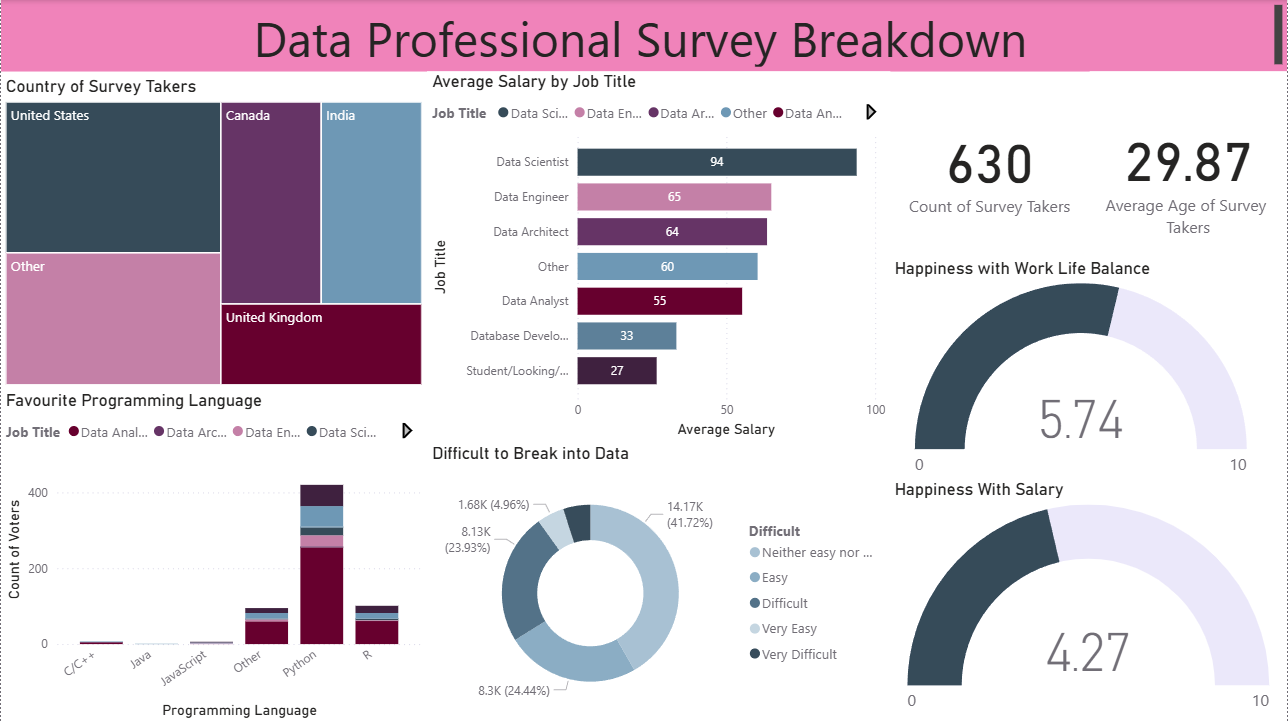

The page's visual inventory and layout, read from the dashboard file:
{"tool":"powerbi","page":{"name":"Page 1","canvas":[1280,720],"ordinal":0},"visuals":[{"type":"textbox","box":[0,0,1280.3,71.4],"z":0},{"type":"card","fields":{"Values":["Count(Data Professional Survey.Unique ID)"]},"box":[884.8,74.3,199.3,184.4],"z":1000},{"type":"card","fields":{"Values":["Avg(Data Professional Survey.Q10 - Current Age)"]},"box":[1084,71.4,196.3,188.8],"z":2000},{"type":"barChart","title":"Average Salary by Job Title","fields":{"Category":["Data Professional Survey.Q1 - Which Title Best Fits your Current Role?.1"],"Y":["Avg(Data Professional Survey.Average Salary)"],"Series":["Data Professional Survey.Q1 - Which Title Best Fits your Current Role?.1"]},"box":[423.8,71.4,461,368.8],"z":3000},{"type":"columnChart","title":"Favourite Programming Language","fields":{"Category":["Data Professional Survey.Q5 - Favorite Programming Language.1"],"Y":["CountNonNull(Data Professional Survey.Unique ID)"],"Series":["Data Professional Survey.Q1 - Which Title Best Fits your Current Role?.1"]},"box":[0,388.1,423.8,331.6],"z":4000},{"type":"treemap","title":"Country of Survey Takers","fields":{"Group":["Data Professional Survey.Q11 - Which Country do you live in?.1"],"Values":["Count(Data Professional Survey.Average Salary)"]},"box":[0,75.8,423.8,312.3],"z":5000},{"type":"gauge","title":"Happiness with Work Life Balance","fields":{"Y":["Avg(Data Professional Survey.Q6 - How Happy are you in your Current Position with the following? (Work/Life Balance))"],"MinValue":["Min(Data Professional Survey.Q6 - How Happy are you in your Current Position with the following? (Work/Life Balance))"],"MaxValue":["Max(Data Professional Survey.Q6 - How Happy are you in your Current Position with the following? (Work/Life Balance))"]},"box":[884.8,255.8,380.7,227.5],"z":6000},{"type":"gauge","title":"Happiness With Salary","fields":{"Y":["Avg(Data Professional Survey.Q6 - How Happy are you in your Current Position with the following? (Salary))"],"MinValue":["Min(Data Professional Survey.Q6 - How Happy are you in your Current Position with the following? (Salary))"],"MaxValue":["Max(Data Professional Survey.Q6 - How Happy are you in your Current Position with the following? (Salary))"]},"box":[884.8,475.8,395.5,242.4],"z":7000},{"type":"donutChart","title":"Difficult to Break into Data","fields":{"Category":["Data Professional Survey.Q7 - How difficult was it for you to break into Data?"],"Y":["Sum(Data Professional Survey.Average Salary)"]},"box":[423.8,440.2,461,279.6],"z":8000}]}

Visuals, with their boxes in screenshot pixels (x1, y1, x2, y2), scaled from the page's 1280x720 canvas onto the 1288x722 screenshot:
textbox: <box>0,0,1287,72</box>
card - Count(Data Professional Survey.Unique ID): <box>890,75,1091,259</box>
card - Avg(Data Professional Survey.Q10 - Current Age): <box>1091,72,1287,261</box>
"Average Salary by Job Title" barChart: <box>426,72,890,441</box>
"Favourite Programming Language" columnChart: <box>0,389,426,721</box>
"Country of Survey Takers" treemap: <box>0,76,426,389</box>
"Happiness with Work Life Balance" gauge: <box>890,257,1273,485</box>
"Happiness With Salary" gauge: <box>890,477,1287,720</box>
"Difficult to Break into Data" donutChart: <box>426,441,890,721</box>
